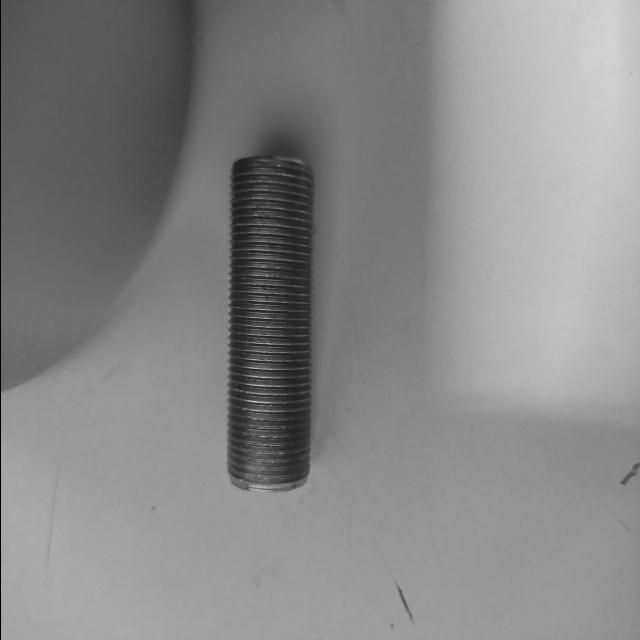Normal: (223, 157, 314, 491)
